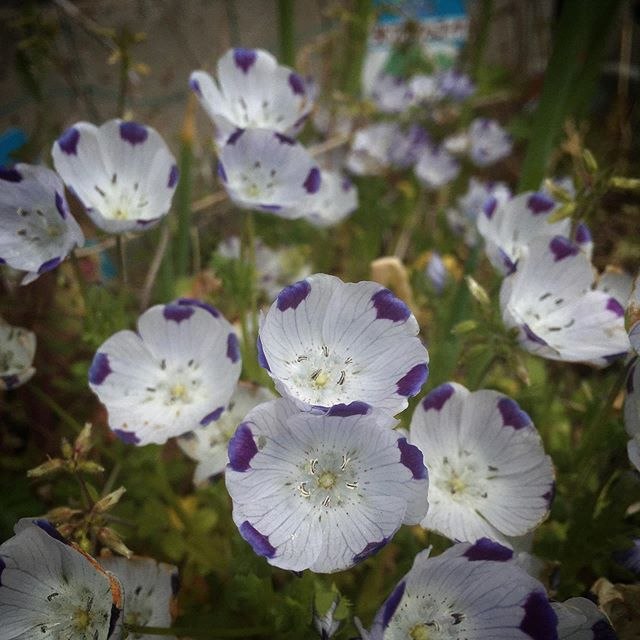flowers: (16, 29, 619, 640)
